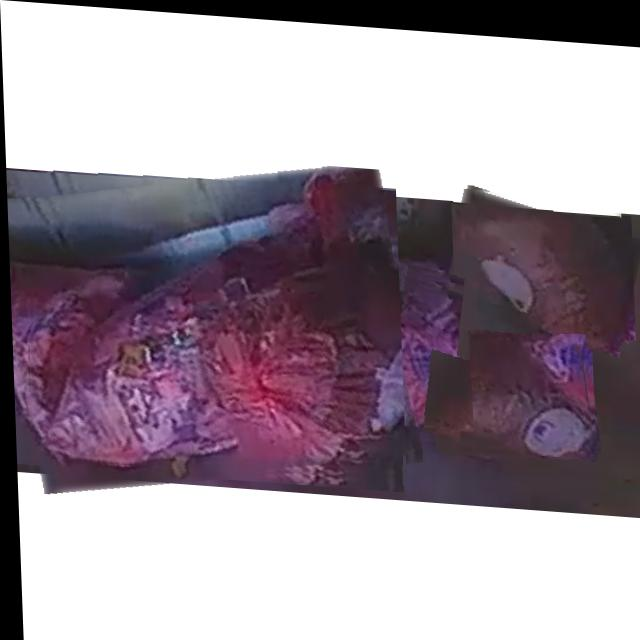other_trashbag: (28, 162, 398, 463), (288, 254, 469, 420), (454, 183, 625, 342), (433, 325, 590, 448)
